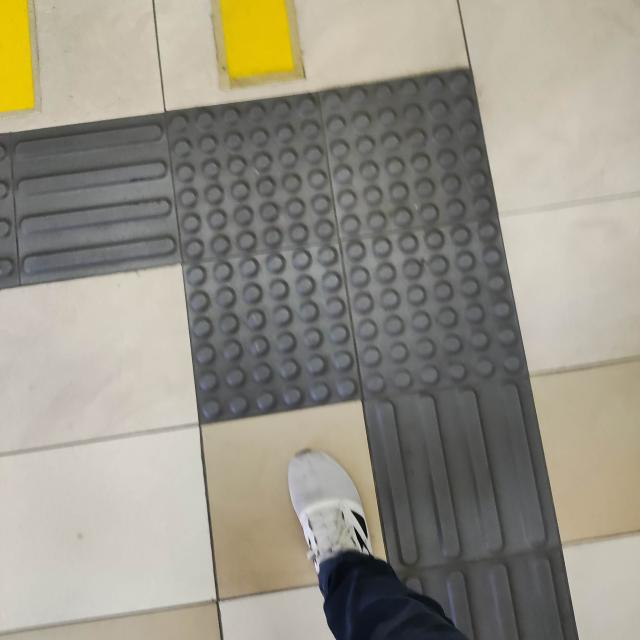kiri: (0, 15, 633, 505)
